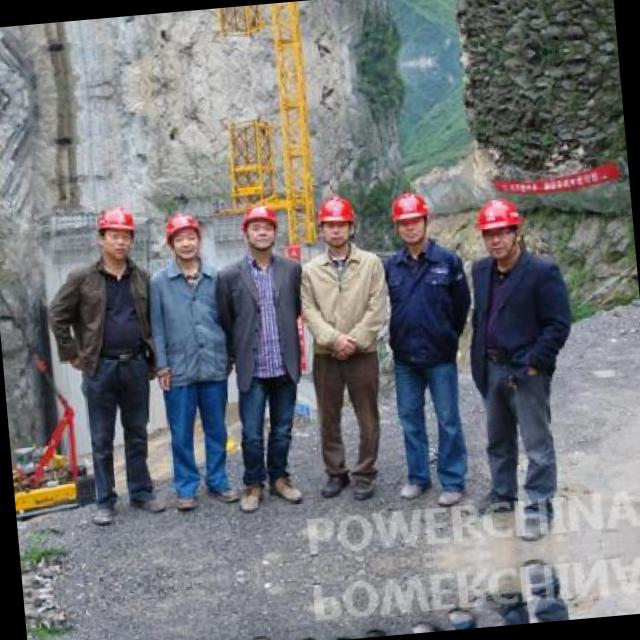helmet: (471, 194, 526, 264), (90, 199, 142, 267), (388, 188, 438, 250), (313, 192, 362, 250), (160, 205, 208, 264), (234, 198, 284, 252)
